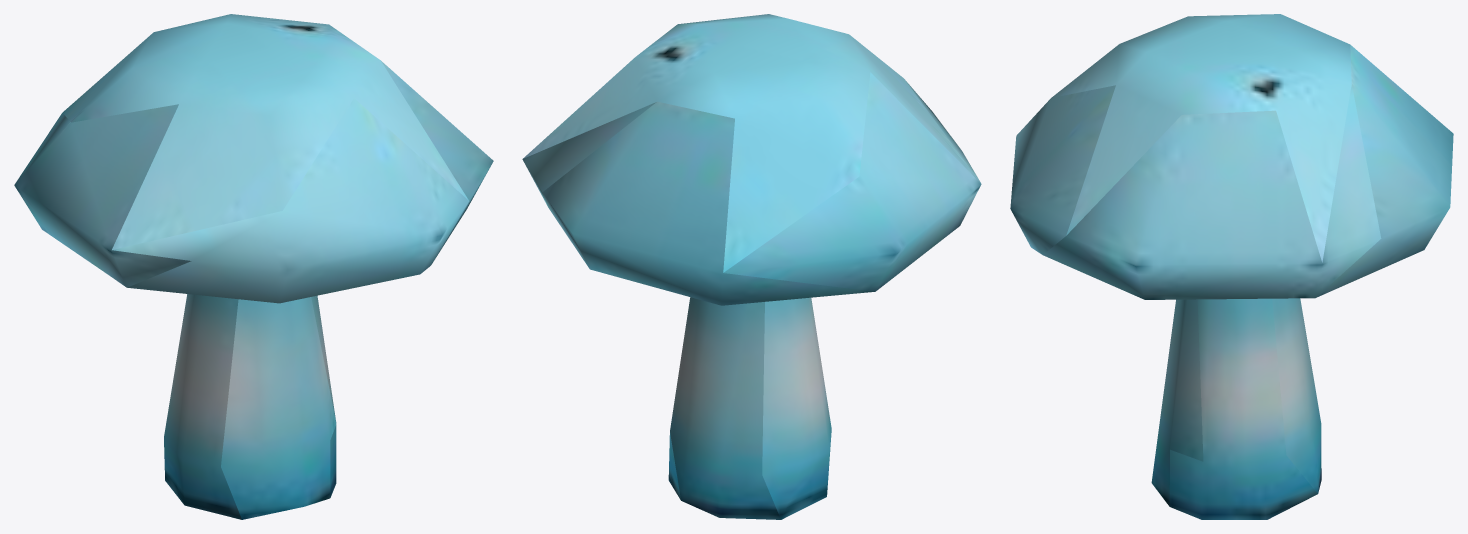
The model's file is b_mycelium_deco_champignon.glb.
The picture shows the model from 3 angles, left to right: view 1: azimuth 30°, elevation 25°; view 2: azimuth 150°, elevation 25°; view 3: azimuth 270°, elevation 25°; orthographic projection.
Visible parts, largest first — view 1: geometry_0; view 2: geometry_0; view 3: geometry_0.
Part boxes in pixels (<box>): geometry_0: <box>14,14,493,519</box>; geometry_0: <box>522,14,981,519</box>; geometry_0: <box>1010,14,1453,519</box>.
Size of the model in its own units: 1 by 1.09 by 1.
Materials: 1 (1 with a texture image).
